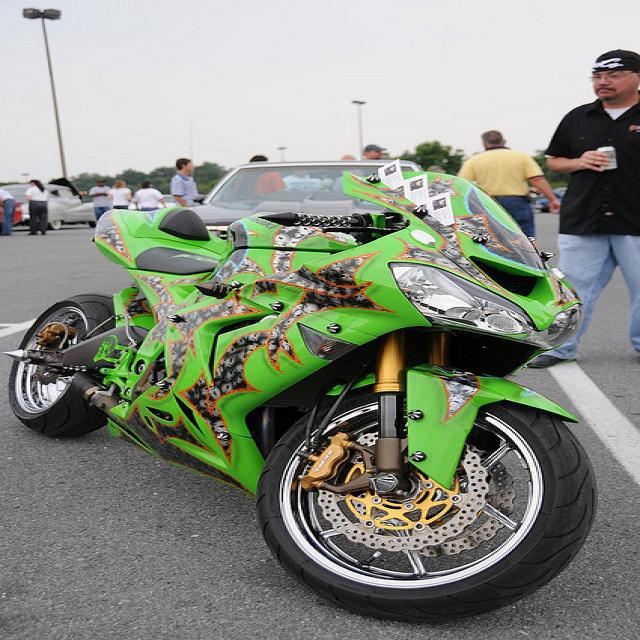motor: (0, 158, 597, 622)
